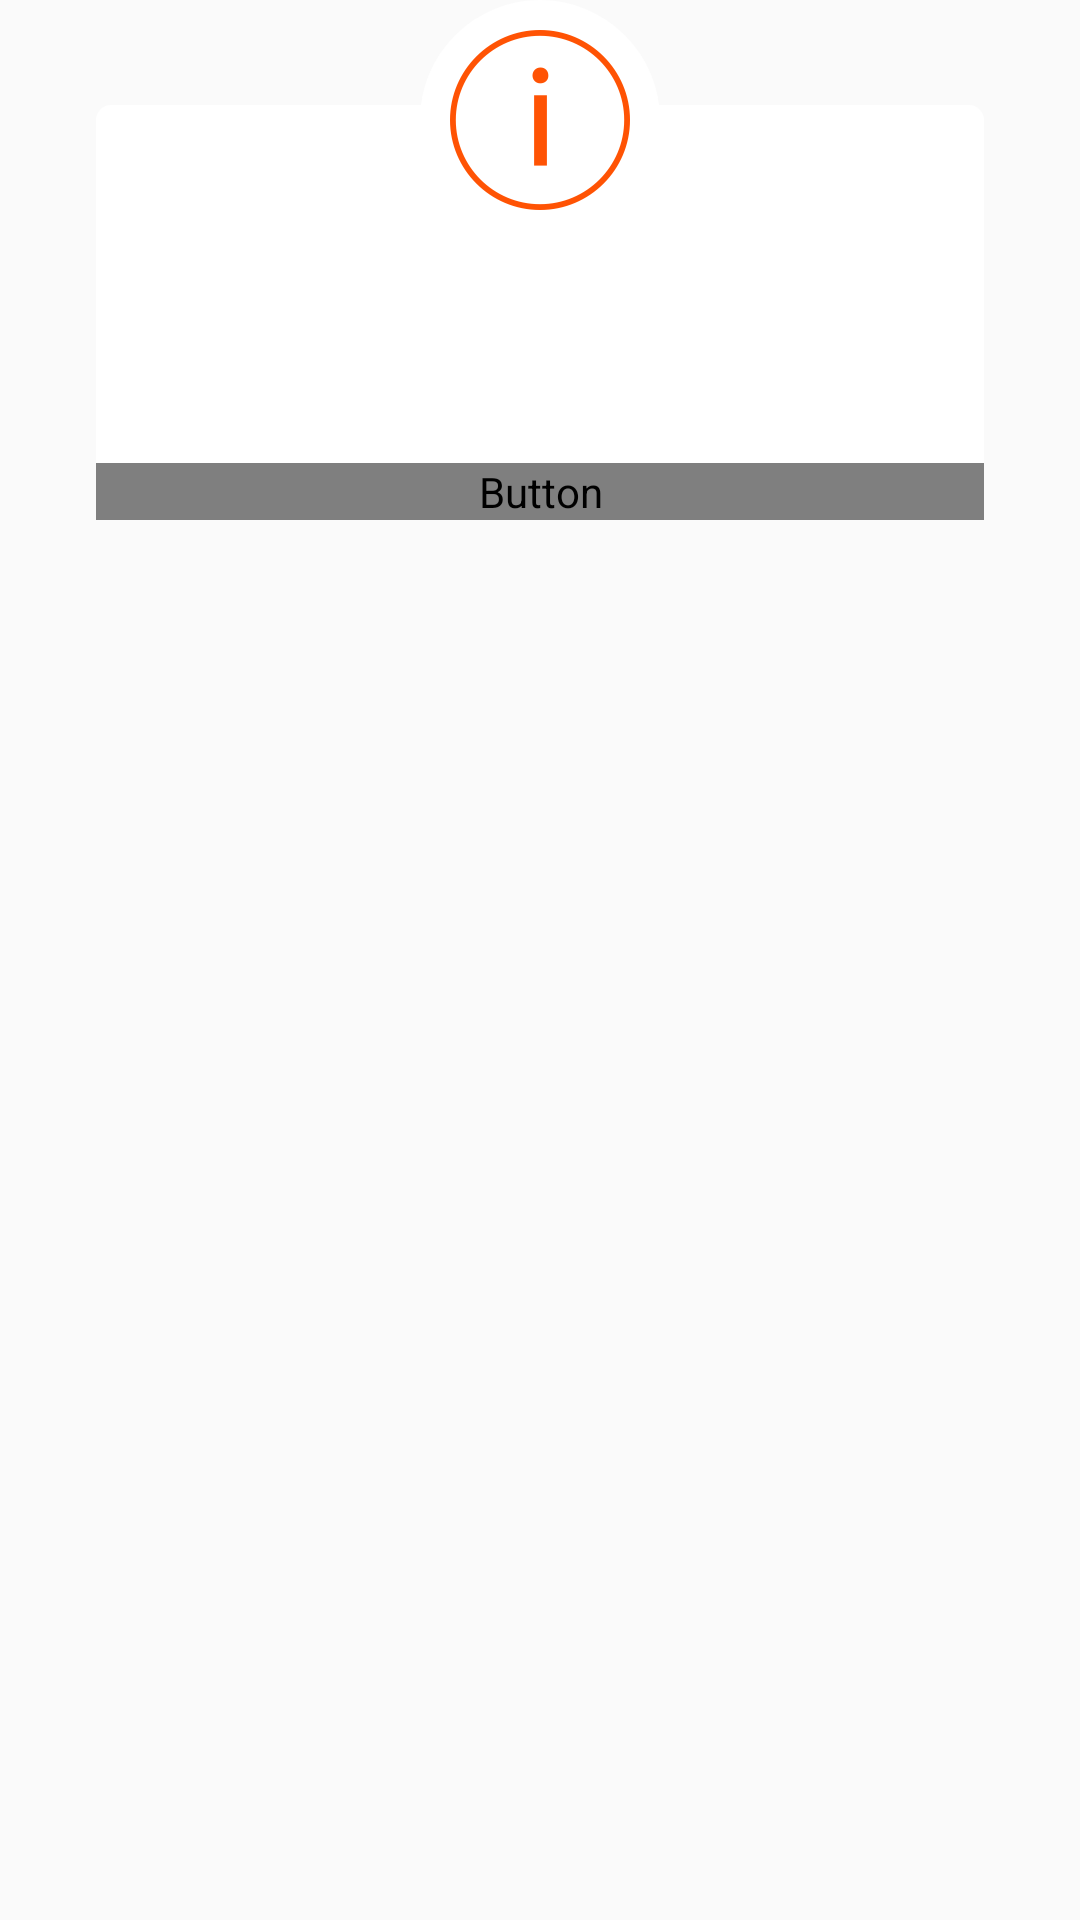

Icon click points for this 1080x1920 phone screenshot, format (x=x, y=y):
info: (x=540, y=120)
